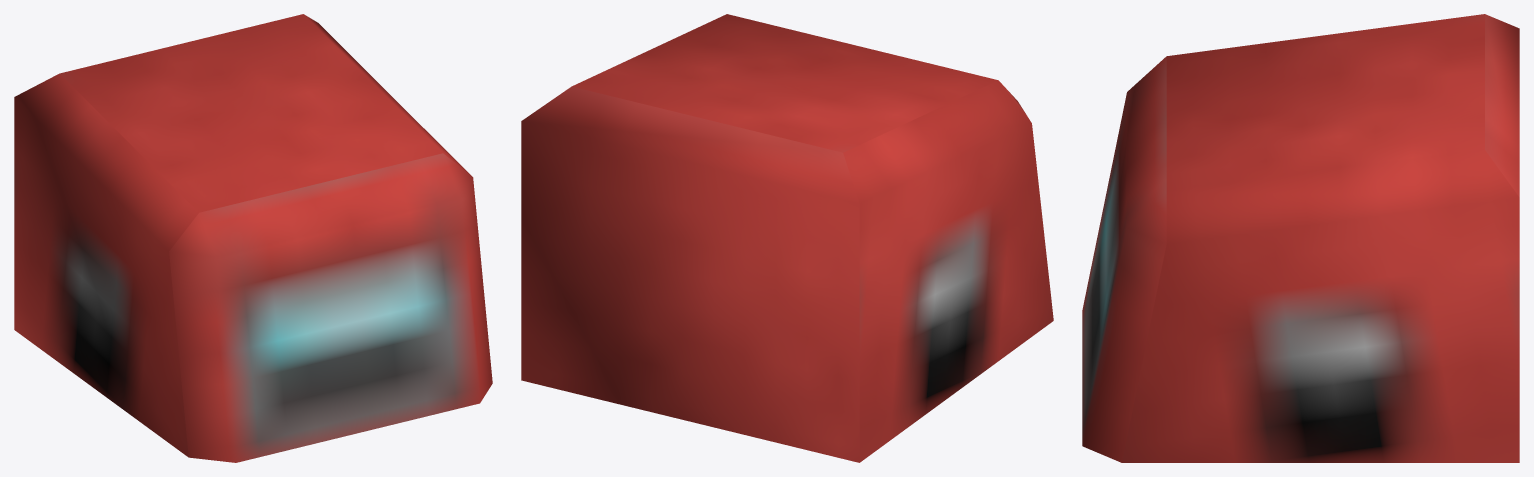
The model's file is Cabin1.FBX.
3 renders of one model, left to right at view 1: azimuth 30°, elevation 25°; view 2: azimuth 150°, elevation 25°; view 3: azimuth 270°, elevation 25°, orthographic. The views are drawn at different scales.
Parts seen in each view (by area): view 1: Cabin1; view 2: Cabin1; view 3: Cabin1.
Boxes of the visible parts, x1,y1,x2,y2 form: Cabin1: (14,14,492,462); Cabin1: (521,14,1053,462); Cabin1: (1082,14,1519,462).
Size of the model in its own units: 17.01 by 13.91 by 18.59.
Materials: 1 (1 with a texture image).
